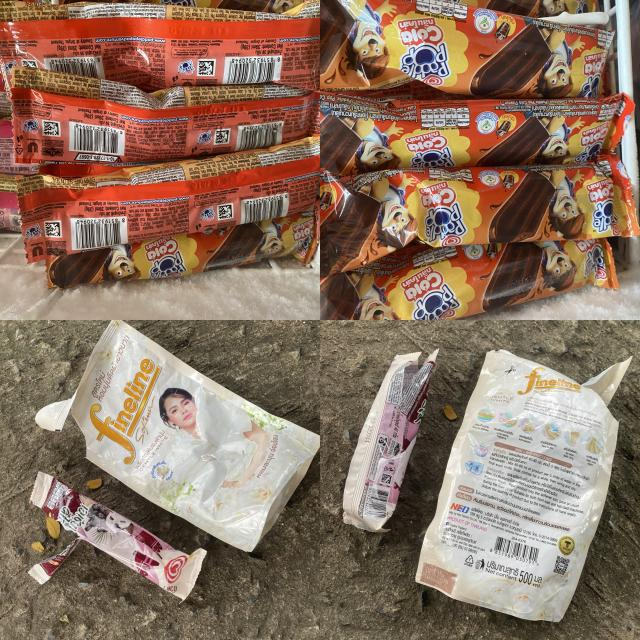plastik: (36, 320, 319, 550), (416, 351, 630, 621), (320, 155, 640, 277), (19, 138, 319, 262), (0, 1, 319, 109), (319, 0, 612, 98), (318, 91, 634, 174), (320, 239, 619, 319), (11, 88, 316, 163), (29, 472, 206, 600), (45, 212, 318, 288), (342, 350, 438, 532)
